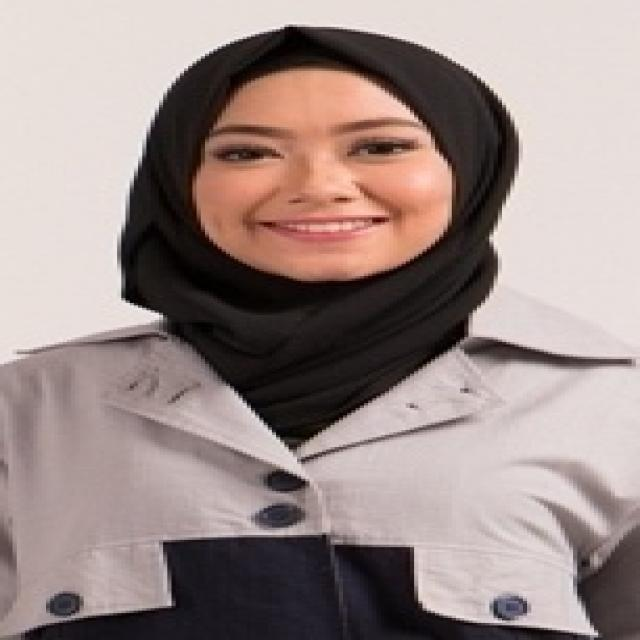head: (134, 23, 513, 294)
